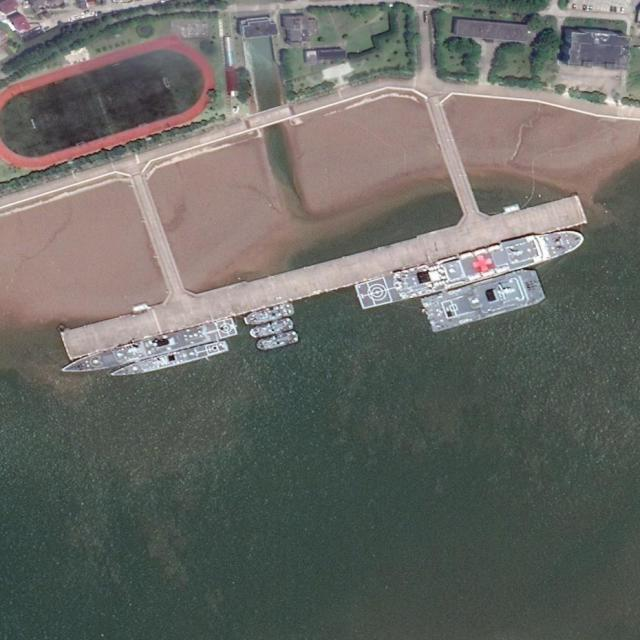Auxiliary Ships: (353, 221, 586, 310), (108, 338, 229, 381)
Destroyer: (60, 318, 237, 378)
Other Warship: (418, 264, 548, 336), (242, 301, 296, 330), (243, 301, 295, 329), (248, 316, 295, 343), (253, 329, 300, 355)
